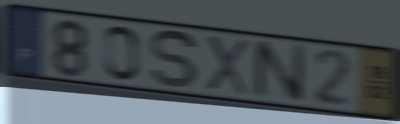0: (103, 24, 141, 82)
2: (310, 47, 353, 110)
8: (49, 16, 91, 79)
N: (251, 38, 309, 105)
S: (148, 27, 200, 91)
X: (203, 32, 250, 98)
